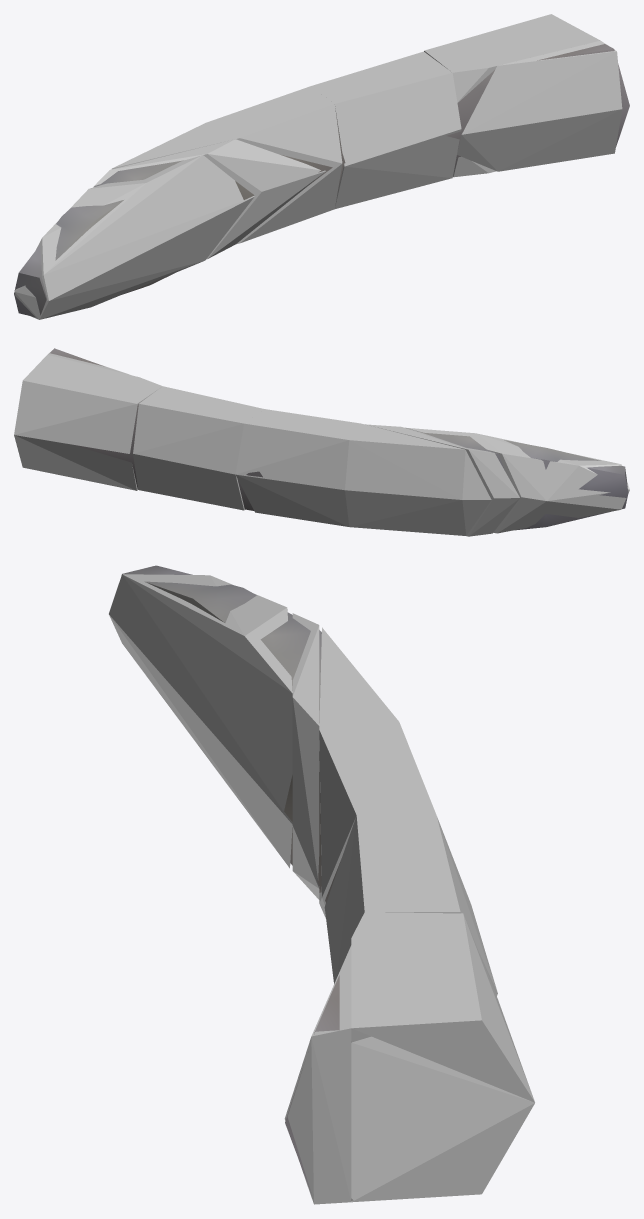
Rendered from SM_McKennan_01c.fbx.
3 views of the same model, one above another, from view 1: azimuth 30°, elevation 25°; view 2: azimuth 150°, elevation 25°; view 3: azimuth 270°, elevation 25° (orthographic). The views are drawn at different scales.
Visible parts, largest first — view 1: SM_McKennan_01c_ConvexHulls, SM_McKennan_01c; view 2: SM_McKennan_01c_ConvexHulls, SM_McKennan_01c; view 3: SM_McKennan_01c_ConvexHulls, SM_McKennan_01c.
Boxes of the visible parts, x1,y1,x2,y2 form: SM_McKennan_01c_ConvexHulls: [14, 14, 622, 319]; SM_McKennan_01c: [14, 44, 629, 317]; SM_McKennan_01c_ConvexHulls: [14, 350, 629, 536]; SM_McKennan_01c: [50, 348, 628, 530]; SM_McKennan_01c_ConvexHulls: [109, 574, 534, 1204]; SM_McKennan_01c: [122, 565, 353, 1200].
Size of the model in its own units: 3.03 by 1.03 by 0.4657.
